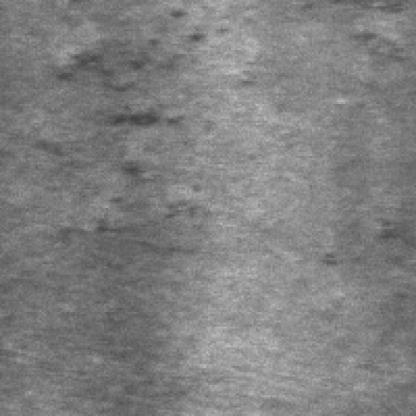rolled-in_scale: (54, 4, 210, 127), (96, 156, 208, 246), (318, 214, 416, 266)
